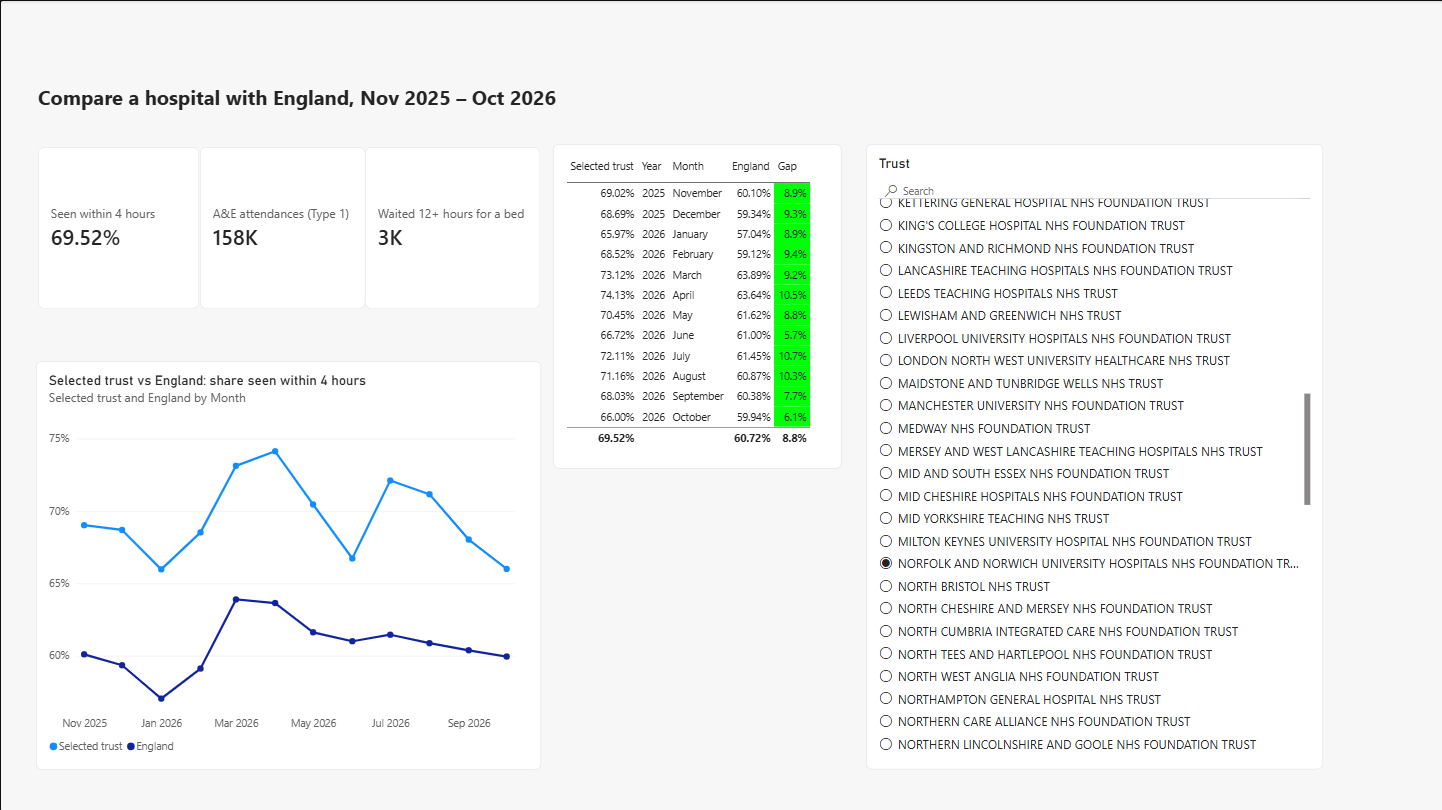

This screenshot's page, from the dashboard's own definition file:
{"tool":"powerbi","page":{"name":"Trust view","canvas":[1920,1080],"ordinal":1},"visuals":[{"type":"lineChart","title":"Selected trust vs England: share seen within 4 hours","fields":{"Category":["AE_12m.Month"],"Y":["AE_12m.4hr Performance 12m","AE_12m.England 4hr"]},"box":[48,480,672,544],"z":0},{"type":"listSlicer","fields":{"Values":["AE_12m.Trust"]},"box":[1152,192,608,864],"z":1000},{"type":"tableEx","fields":{"Values":["AE_12m.4hr Performance 12m","AE_12m.Month.Variation.Date Hierarchy.Year","AE_12m.Month.Variation.Date Hierarchy.Month","AE_12m.England 4hr","AE_12m.Gap vs England"]},"box":[736,192,384,432],"z":2000},{"type":"textbox","box":[51.1,110.9,808.3,137.1],"z":4000},{"type":"cardVisual","fields":{"Data":["AE_12m.4hr Performance 12m"]},"box":[51.1,195.5,214.5,215.9],"z":5000},{"type":"cardVisual","fields":{"Data":["Sum(AE_12m.Attendances)"]},"box":[265.5,195.5,220.3,215.9],"z":6000},{"type":"cardVisual","fields":{"Data":["Sum(AE_12m.Over 12 Hours)"]},"box":[485.8,195.5,233.4,215.9],"z":7000}]}

Visuals, with their boxes in screenshot pixels (x1, y1, x2, y2), scaled from the page's 1920x1080 canvas onto the 1442x810 screenshot:
"Selected trust vs England: share seen within 4 hours" lineChart: Rect(36, 360, 541, 768)
listSlicer - AE_12m.Trust: Rect(865, 144, 1322, 792)
tableEx - AE_12m.4hr Performance 12m x AE_12m.Month.Variation.Date Hierarchy.Year: Rect(553, 144, 841, 468)
textbox: Rect(38, 83, 645, 186)
cardVisual - AE_12m.4hr Performance 12m: Rect(38, 147, 199, 309)
cardVisual - Sum(AE_12m.Attendances): Rect(199, 147, 365, 309)
cardVisual - Sum(AE_12m.Over 12 Hours): Rect(365, 147, 540, 309)
